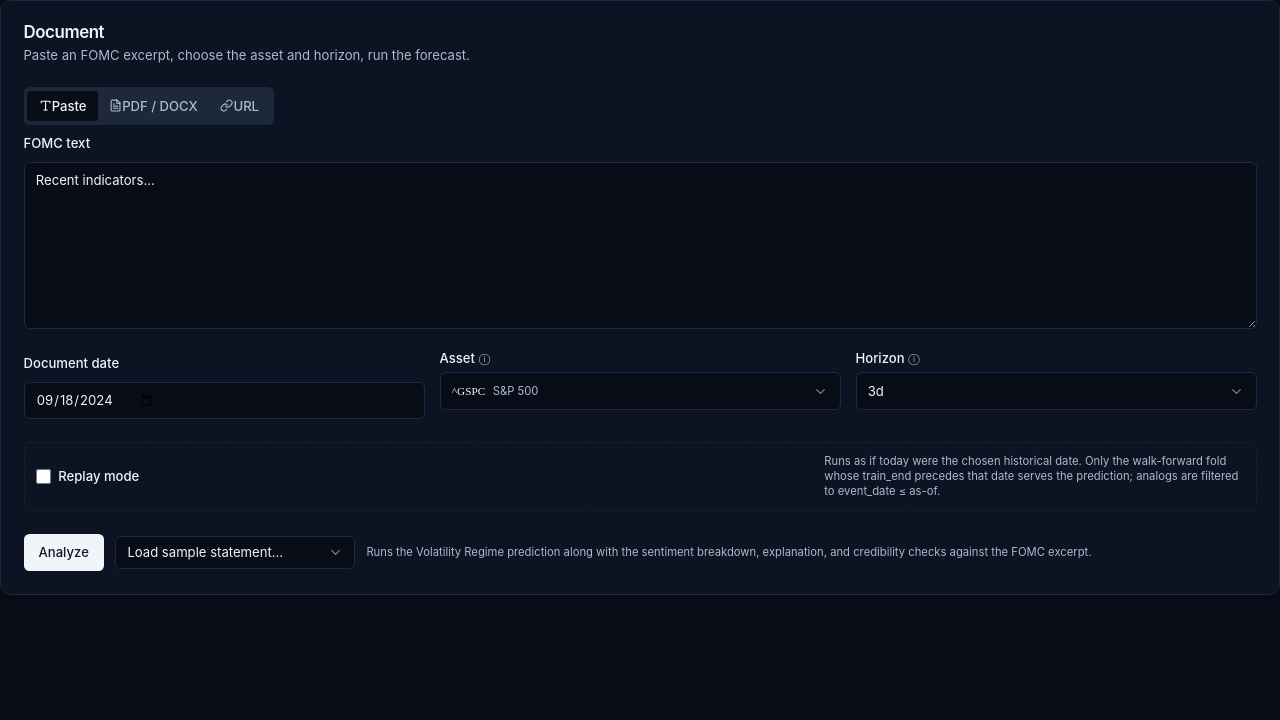
Test: AnalyzeForm › horizon tooltip reveals the scope-clarification text on hover (#474)
The image size is (1280, 720).
Hover over the button named "What does the horizon picker affect?" at (914, 358), box [908, 353, 920, 364]
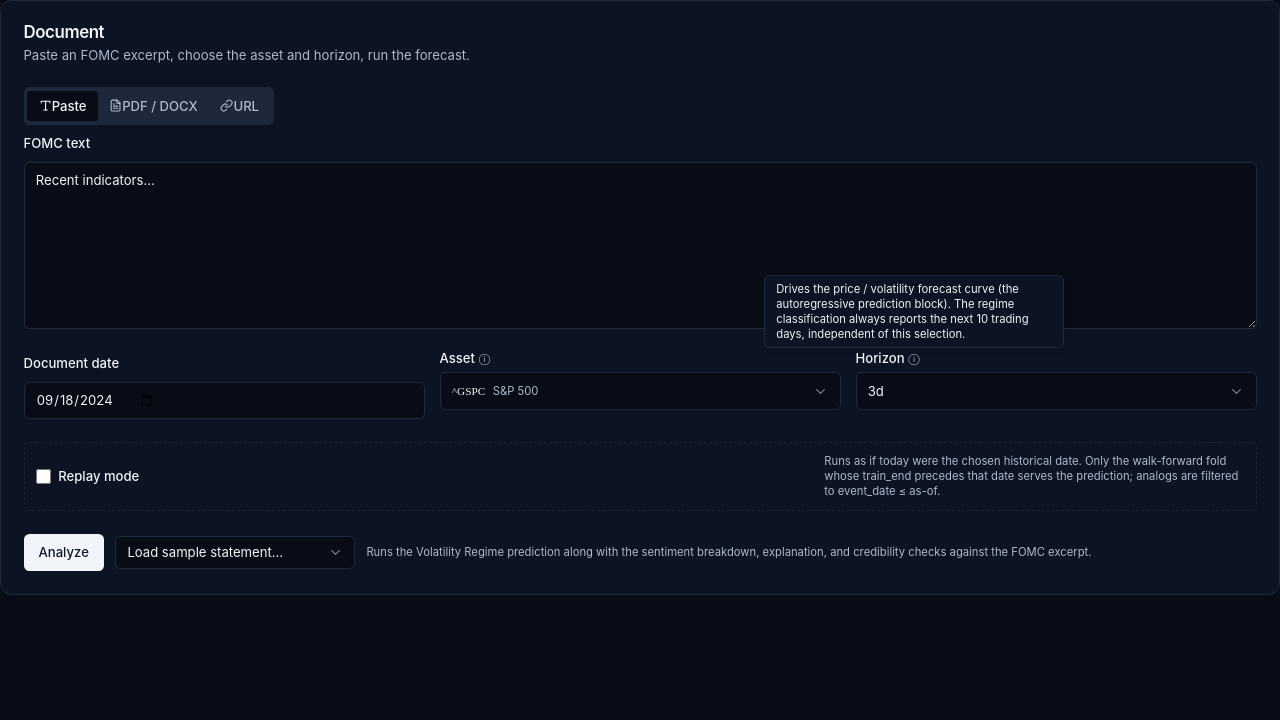
Check: the tooltip "autoregressive prediction block" is shown, box [776, 282, 1029, 341]
